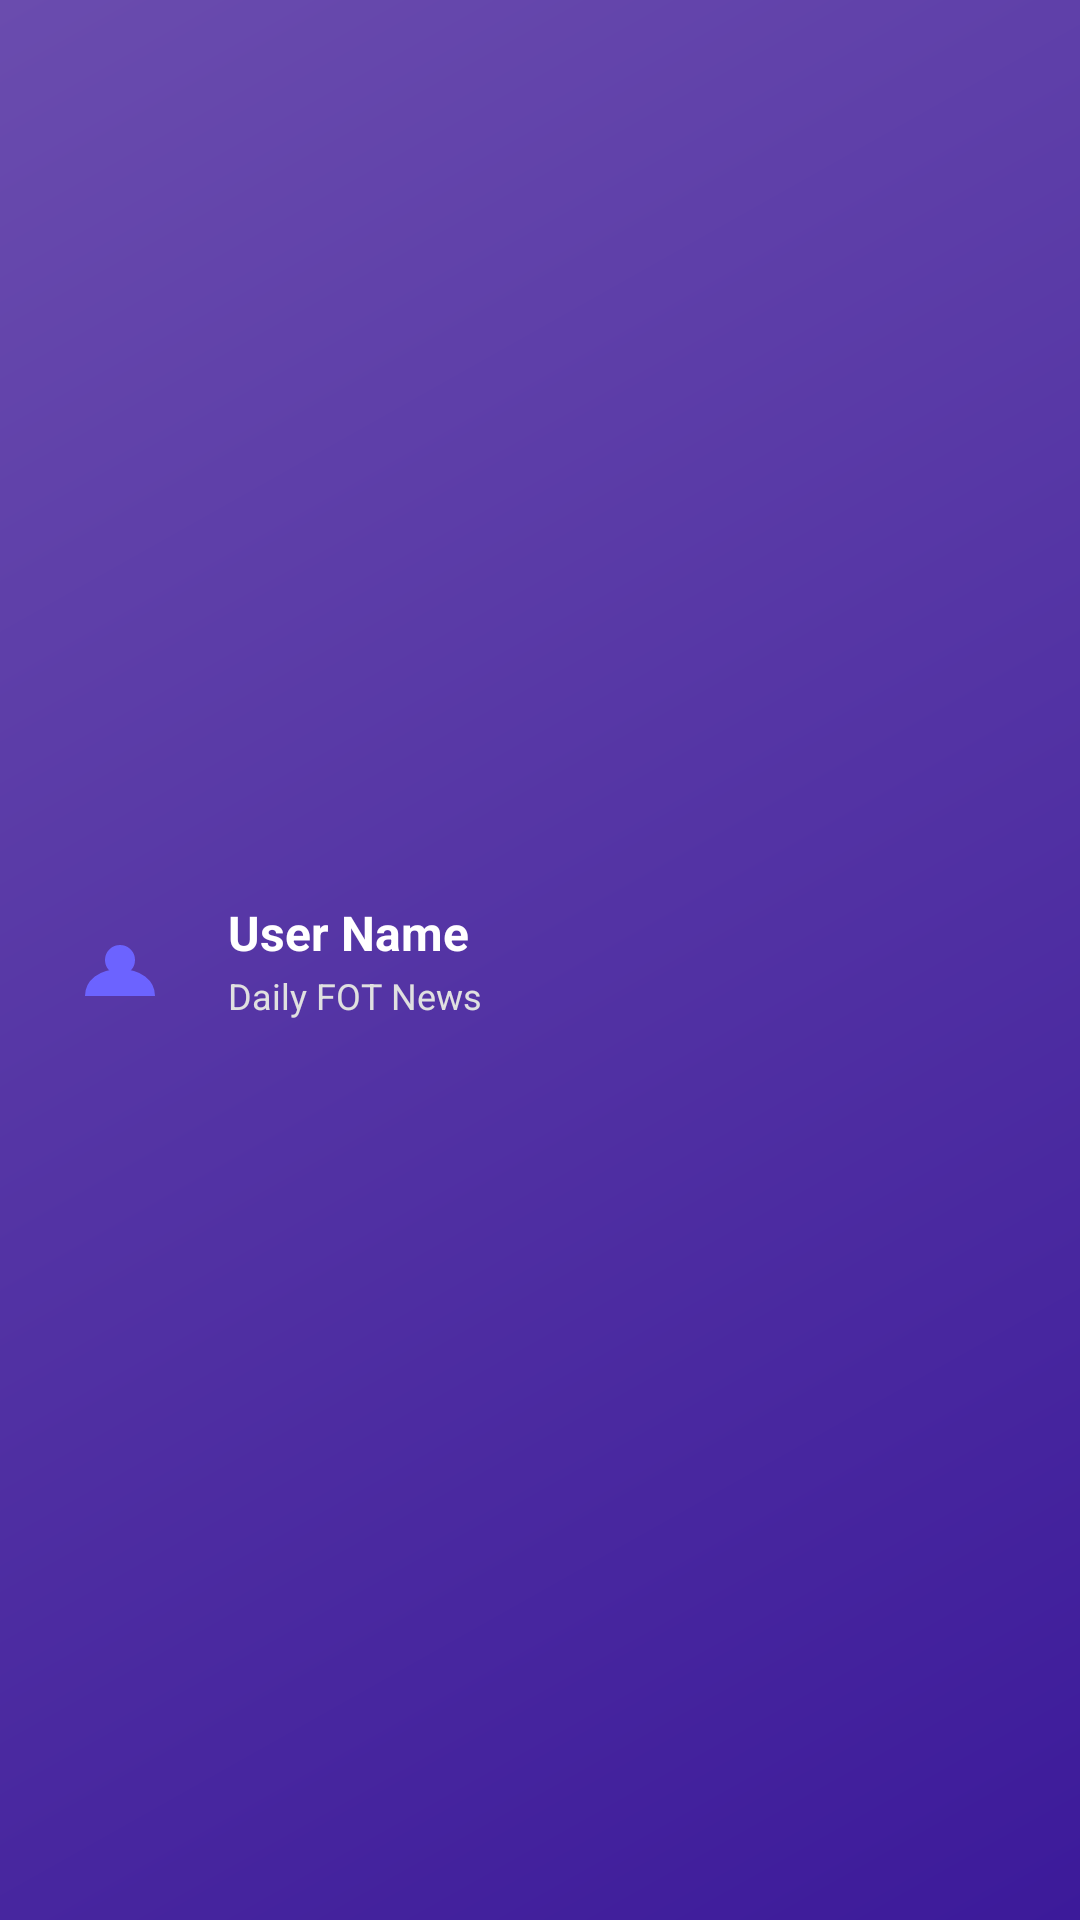

Named icons in this screenshot (1080px×1920px) and their bounding boxes, (x1, y1, x2, y2):
user profile: (85, 945, 155, 996)
